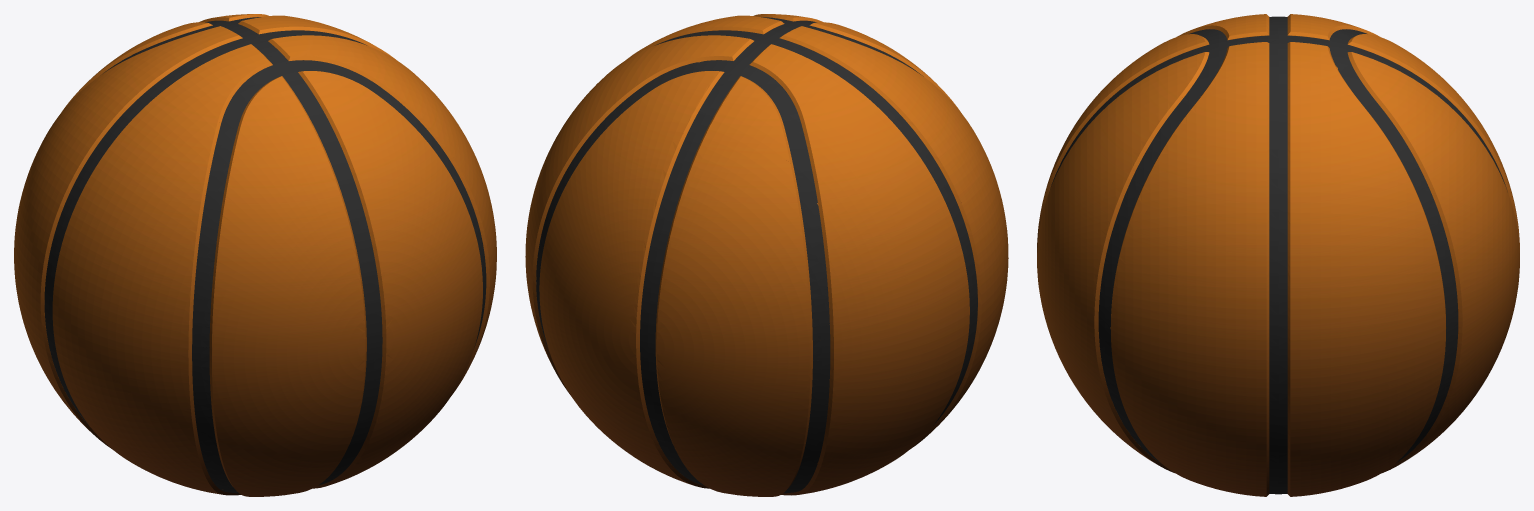
Rendered from basketball-1.glb.
3 views of the same model, side by side, from view 1: azimuth 30°, elevation 25°; view 2: azimuth 150°, elevation 25°; view 3: azimuth 270°, elevation 25° (orthographic).
Parts seen in each view (by area): view 1: Object_2, Object_3; view 2: Object_2, Object_3; view 3: Object_2, Object_3.
Part boxes in pixels (left/top/right/bottom): Object_2: left=14, top=14, right=496, bottom=496; Object_3: left=52, top=39, right=489, bottom=494; Object_2: left=525, top=14, right=977, bottom=496; Object_3: left=536, top=14, right=1008, bottom=486; Object_2: left=1037, top=14, right=1519, bottom=496; Object_3: left=1037, top=14, right=1458, bottom=496.
Bounding box in the file's own units: 39.95 × 39.2 × 39.93.
1 material, 1 textured.
